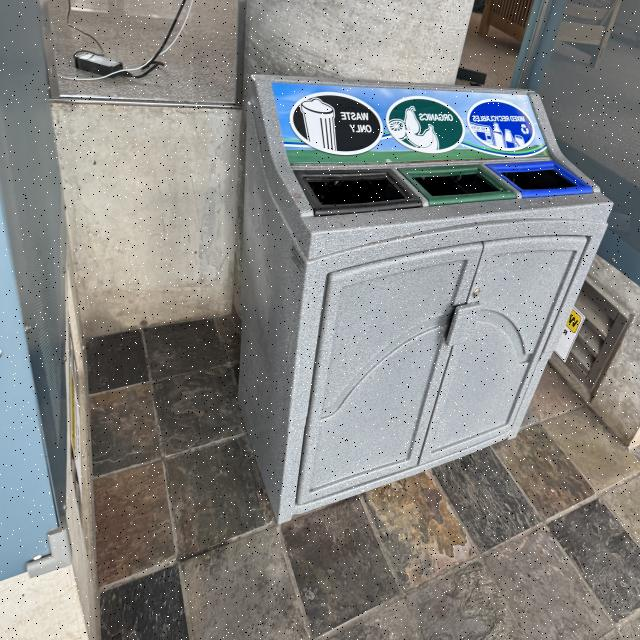Dustbin: (238, 73, 614, 527)
